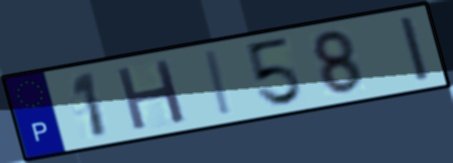1: (67, 69, 110, 142)
5: (240, 34, 307, 109)
8: (308, 28, 366, 97)
H: (113, 56, 190, 134)
I: (396, 13, 435, 85), (204, 47, 237, 119)
